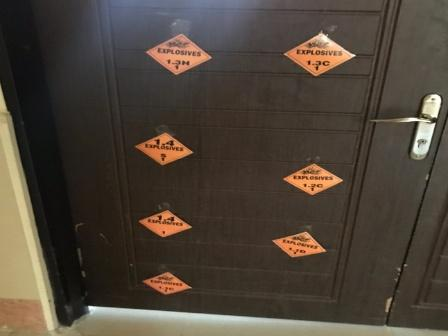explosive: (280, 31, 357, 77), (144, 31, 215, 75), (280, 162, 344, 196), (131, 132, 194, 166), (135, 208, 193, 239), (271, 231, 329, 260), (139, 270, 194, 295)
